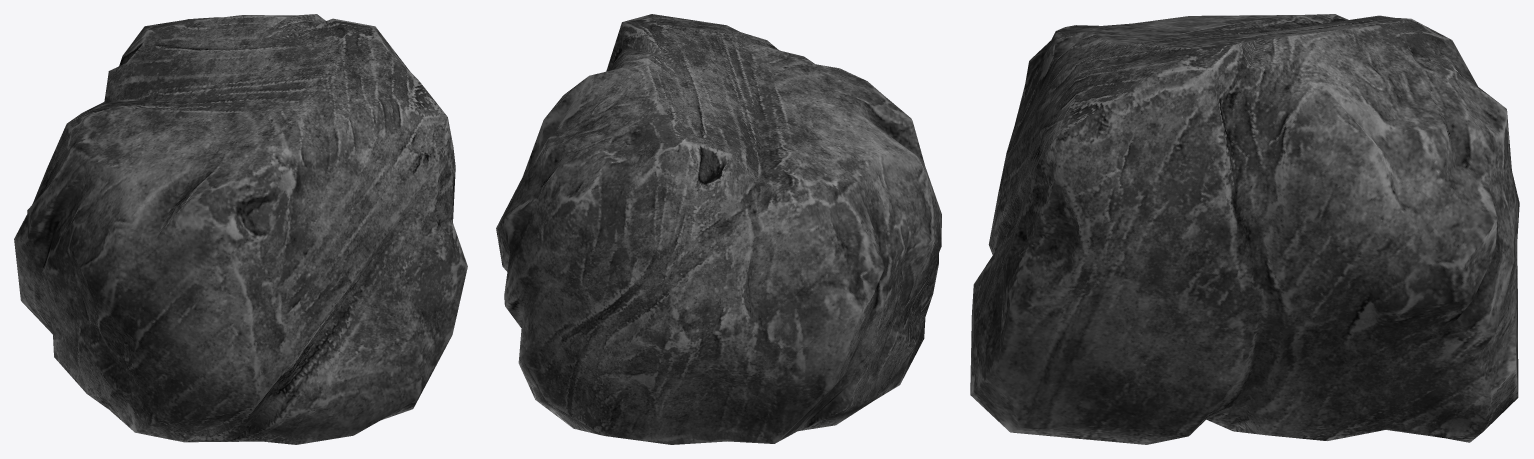
The model's file is rock__game_asset.glb.
The picture shows the model from 3 angles, left to right: view 1: azimuth 30°, elevation 25°; view 2: azimuth 150°, elevation 25°; view 3: azimuth 270°, elevation 25°; orthographic projection. The views are drawn at different scales.
Parts seen in each view (by area): view 1: Sculpt_low; view 2: Sculpt_low; view 3: Sculpt_low.
Boxes of the visible parts, x1,y1,x2,y2 form: Sculpt_low: [14, 14, 467, 444]; Sculpt_low: [496, 14, 941, 444]; Sculpt_low: [970, 14, 1519, 444].
Size of the model in its own units: 1.12 by 1.06 by 1.28.
Materials: 1 (1 with a texture image).
